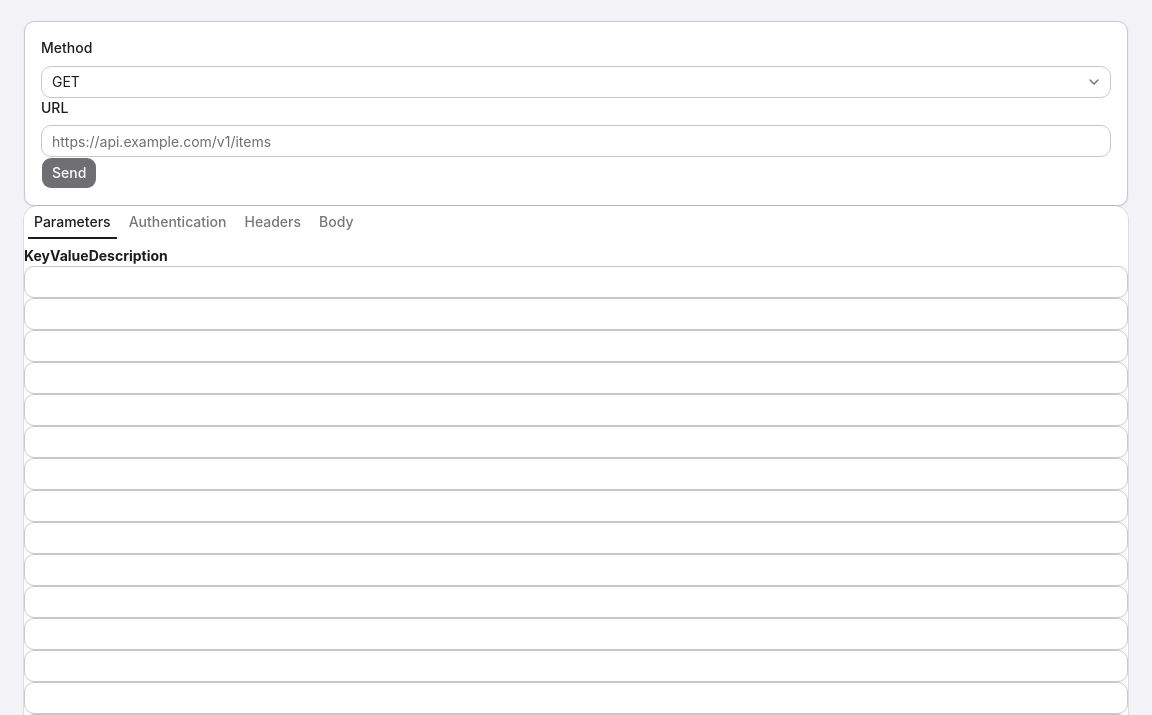
HttpPage › displays network error details while keeping the response body visible
Type "https://example.test/items" into the field labelled "URL" at (576, 141), box [41,125,1111,157]
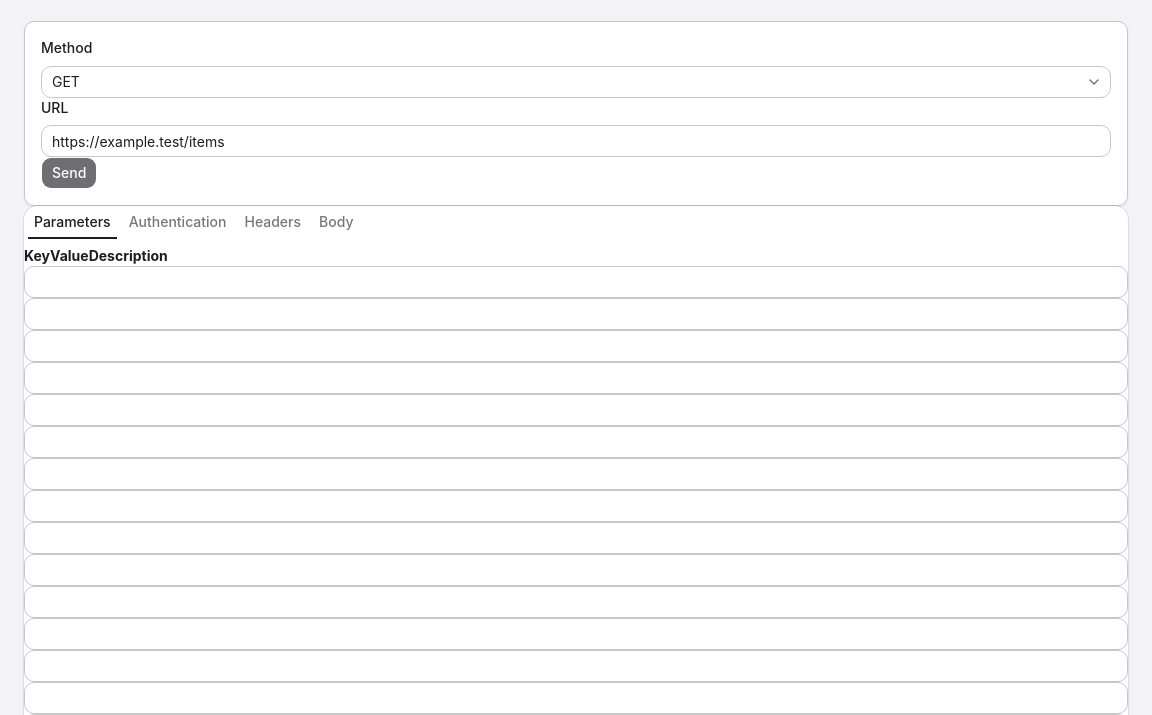
Click the button "Send" at (69, 173), box [41,157,97,189]
(page scrolled)
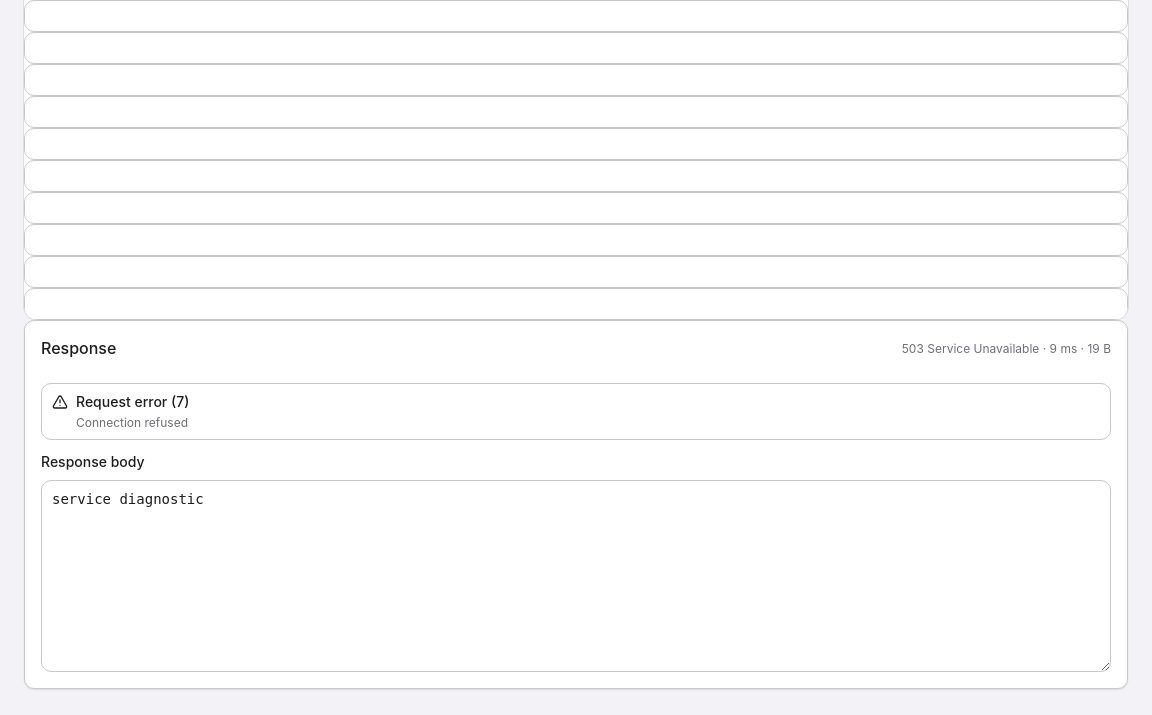
expect the message shows "Connection refused": met, box [76,415,188,430]
expect the text box labelled "Response body" holds "service diagnostic": met, box [41,480,1111,672]
